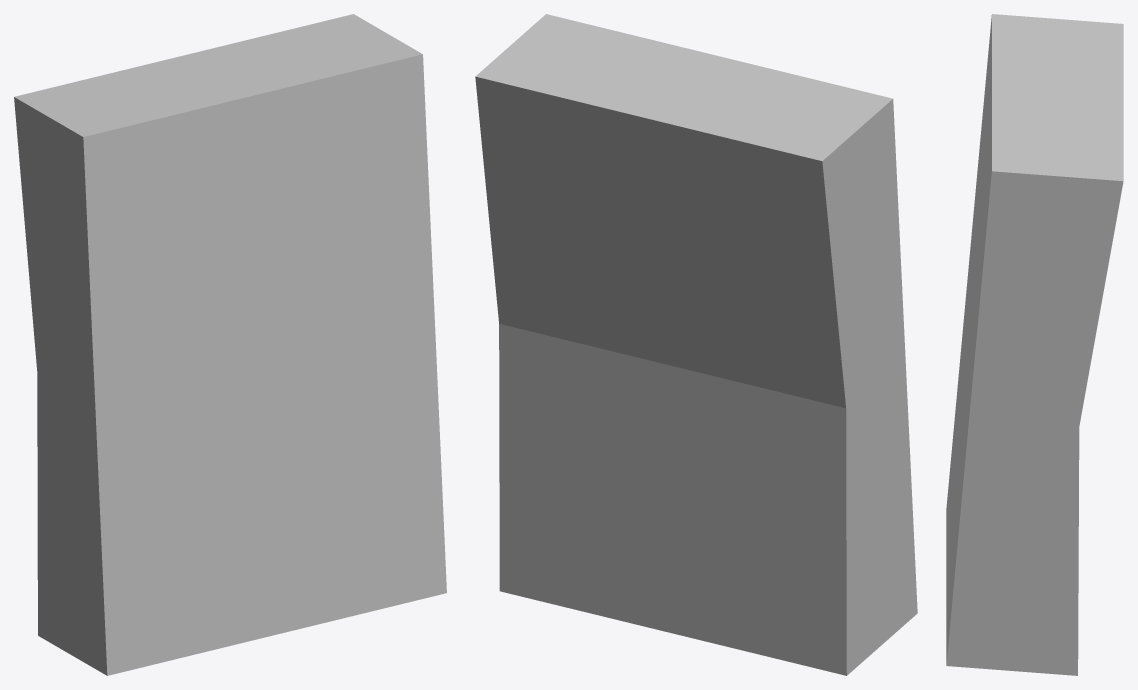
The model's file is interruttoreCucina.fbx.
The picture shows the model from 3 angles, left to right: view 1: azimuth 30°, elevation 25°; view 2: azimuth 150°, elevation 25°; view 3: azimuth 270°, elevation 25°; orthographic projection. The views are drawn at different scales.
Parts seen in each view (by area): view 1: interruttore; view 2: interruttore; view 3: interruttore.
Part boxes in pixels (<box>): interruttore: <box>14,14,446,675</box>; interruttore: <box>475,14,917,675</box>; interruttore: <box>946,14,1123,675</box>.
Size of the model in its own units: 3.45 by 5.16 by 1.64.
